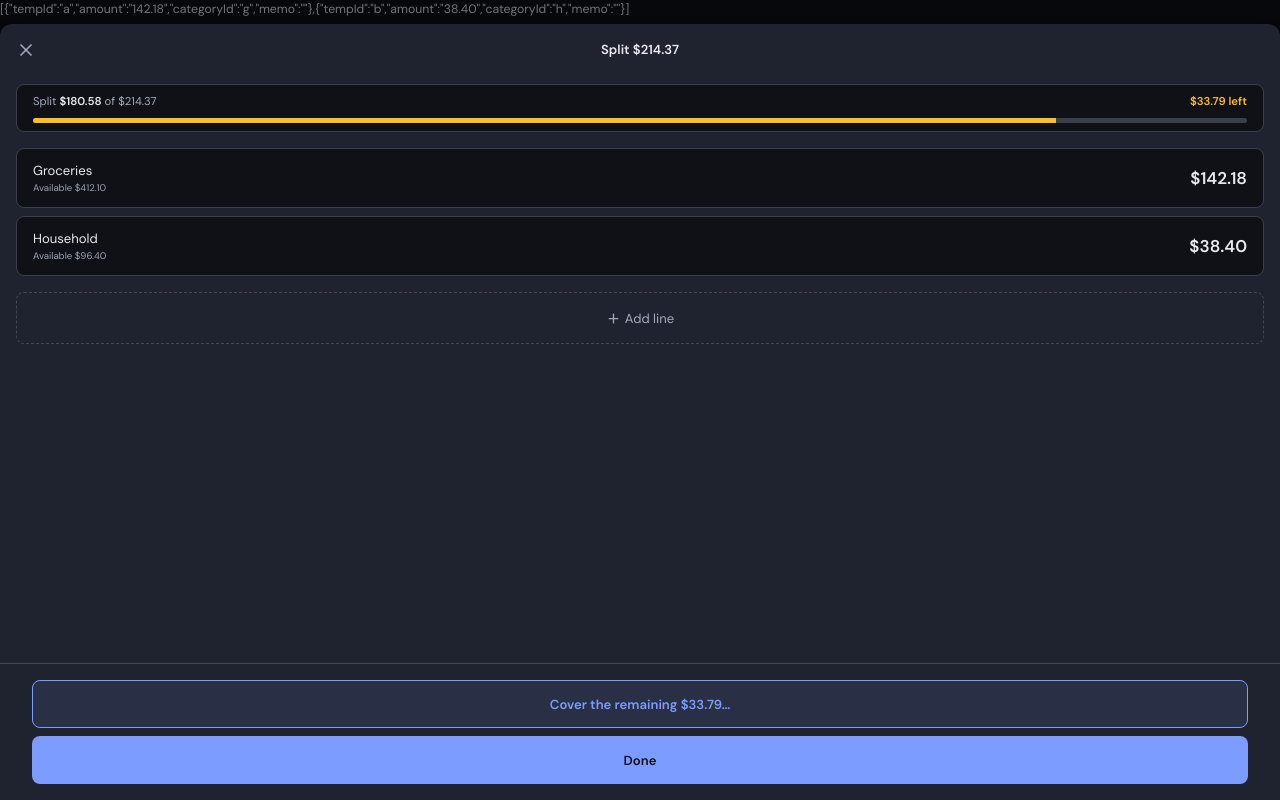
SplitSheet › opens a line it adds
Click the button "Add line".
click(640, 318)  # box [16,292,1264,344]
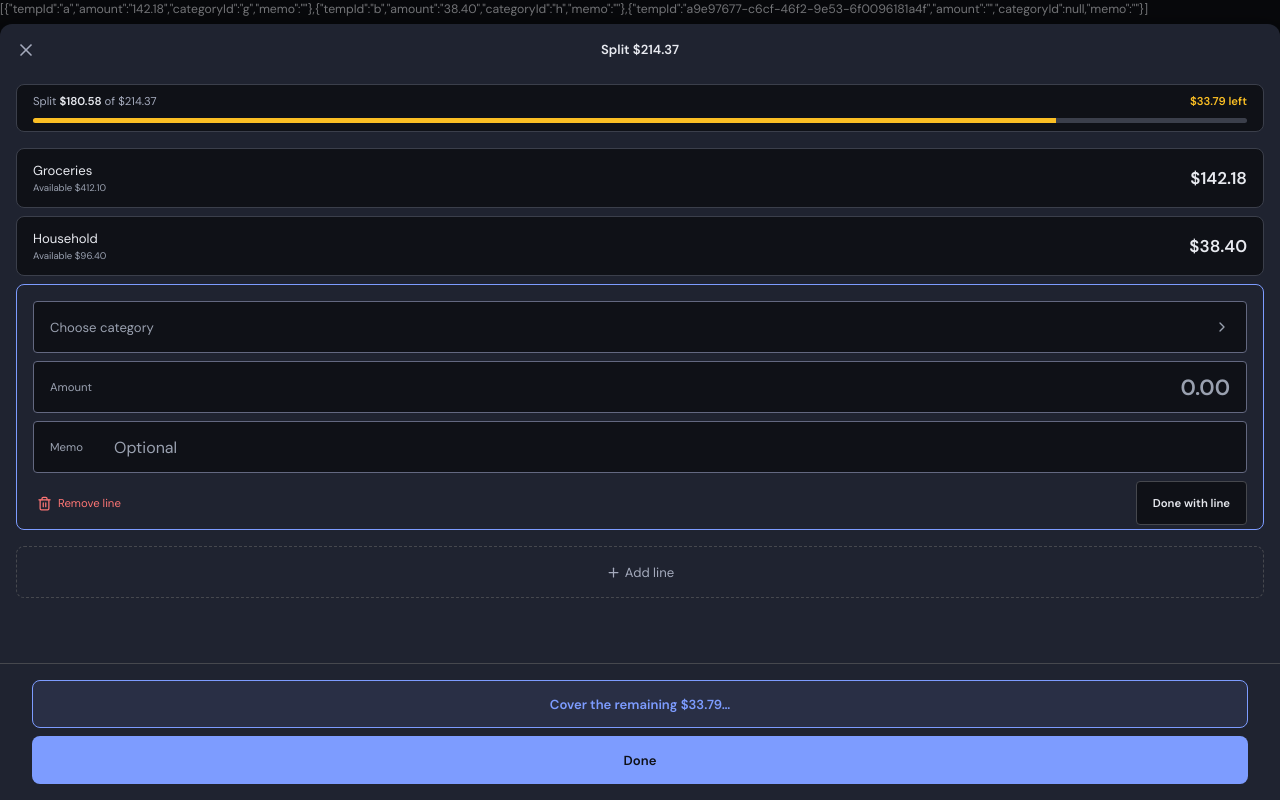
expect the field named "Split 3 amount" is shown: met, box [114,363,1230,411]
